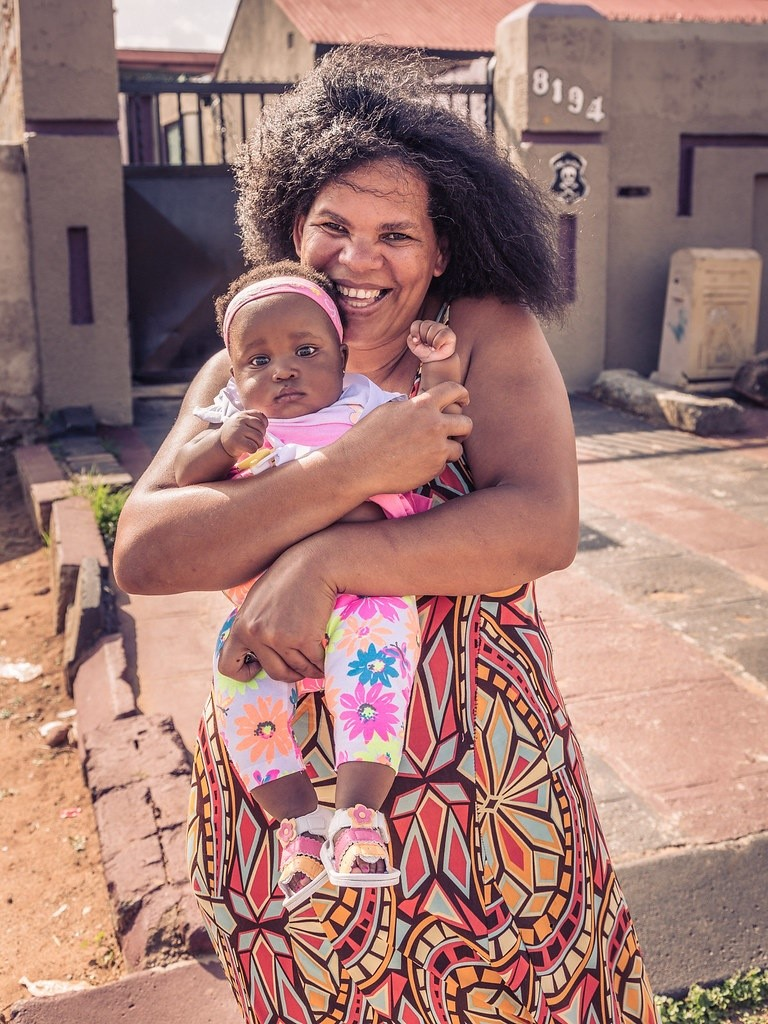face_no_mask: (285, 105, 454, 346), (224, 269, 349, 418)
